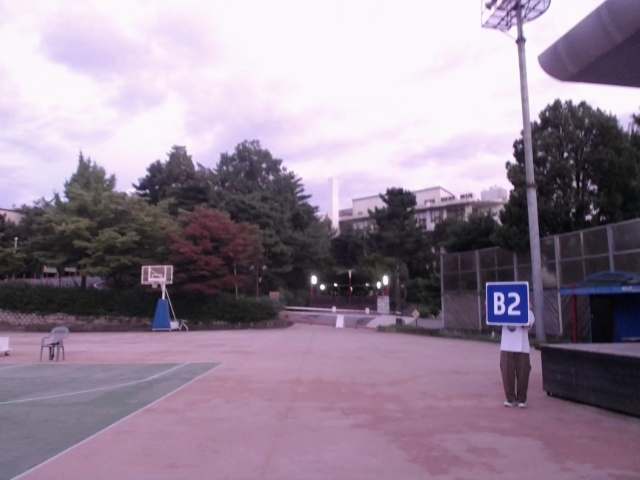delivery_b2: (485, 282, 530, 326)
